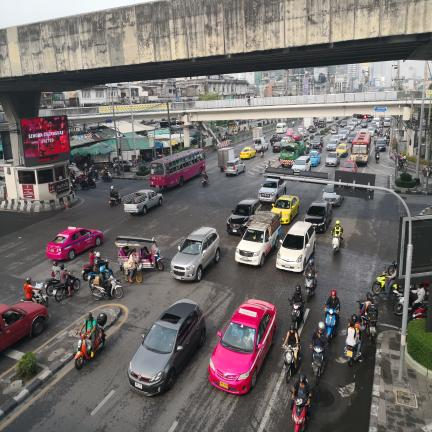bus: (150, 148, 205, 188), (350, 132, 371, 164)
car: (128, 299, 206, 396), (170, 227, 221, 282), (276, 221, 316, 272), (46, 226, 104, 260), (226, 198, 262, 235), (304, 201, 332, 232), (258, 178, 287, 203), (322, 184, 344, 206), (225, 160, 246, 176), (291, 155, 311, 171), (253, 136, 269, 152), (325, 152, 340, 166), (326, 138, 338, 151), (375, 138, 386, 151), (347, 131, 357, 143), (330, 134, 341, 144), (272, 141, 281, 153), (342, 126, 352, 136), (338, 130, 348, 140), (292, 132, 303, 141), (307, 124, 317, 133), (281, 136, 291, 143), (368, 127, 375, 137), (297, 125, 304, 133), (302, 129, 309, 137), (354, 126, 362, 133), (340, 120, 347, 127), (314, 130, 316, 132), (278, 245, 278, 246)
human: (291, 373, 312, 418), (345, 315, 363, 362), (283, 324, 299, 370), (81, 312, 97, 357), (325, 289, 340, 327), (291, 284, 305, 323), (310, 321, 327, 348), (60, 263, 73, 297), (384, 267, 397, 300), (23, 277, 42, 299), (99, 266, 111, 297), (303, 258, 317, 284), (127, 249, 137, 283), (361, 291, 374, 317), (332, 220, 344, 245), (94, 252, 109, 271), (141, 246, 154, 261), (52, 260, 60, 280), (110, 186, 119, 199), (122, 245, 132, 256), (89, 248, 95, 266), (203, 170, 209, 183), (322, 350, 325, 363), (247, 95, 250, 105), (312, 350, 313, 363)
motorbike: (116, 236, 164, 273), (357, 300, 378, 342), (91, 276, 123, 301), (282, 342, 301, 383), (75, 327, 91, 370), (312, 345, 326, 385), (93, 313, 107, 353), (292, 397, 307, 432), (20, 289, 48, 306), (325, 305, 337, 343), (372, 269, 388, 295), (290, 302, 304, 331), (304, 271, 317, 302), (344, 344, 361, 367), (44, 277, 60, 297), (52, 282, 68, 302), (87, 268, 99, 289), (132, 263, 143, 283), (67, 275, 80, 291), (331, 232, 340, 254), (82, 265, 94, 281), (109, 194, 121, 207), (122, 266, 133, 280), (387, 260, 397, 275), (390, 286, 403, 297), (105, 262, 113, 279), (397, 159, 407, 172), (80, 176, 90, 189), (101, 171, 112, 182), (70, 179, 78, 191), (89, 170, 99, 179), (88, 177, 96, 188), (202, 178, 209, 187), (375, 152, 380, 163), (358, 330, 362, 341), (35, 283, 43, 288), (374, 136, 377, 145), (261, 151, 264, 158), (393, 281, 395, 285), (125, 277, 128, 279), (141, 275, 142, 277), (283, 339, 283, 340), (402, 298, 403, 298), (418, 315, 418, 316), (392, 273, 392, 274), (389, 267, 389, 268), (139, 281, 141, 281), (325, 302, 325, 304)
pickup: (0, 301, 50, 351), (123, 190, 162, 214), (280, 142, 306, 164), (270, 134, 281, 145), (360, 119, 368, 128), (318, 119, 326, 128)
taxi: (208, 299, 278, 394), (271, 195, 299, 224), (240, 146, 256, 159), (308, 151, 321, 166), (341, 160, 357, 172), (336, 143, 349, 157), (286, 128, 294, 136)
truck: (235, 211, 281, 267), (279, 142, 306, 165), (218, 147, 237, 171), (253, 136, 268, 151), (252, 127, 264, 139)
van: (311, 135, 323, 148), (276, 122, 287, 133)
